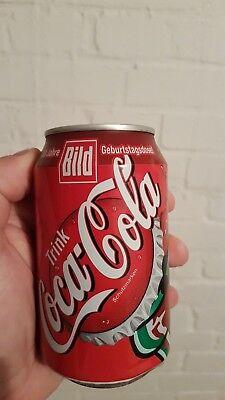metal: (34, 125, 169, 388)
